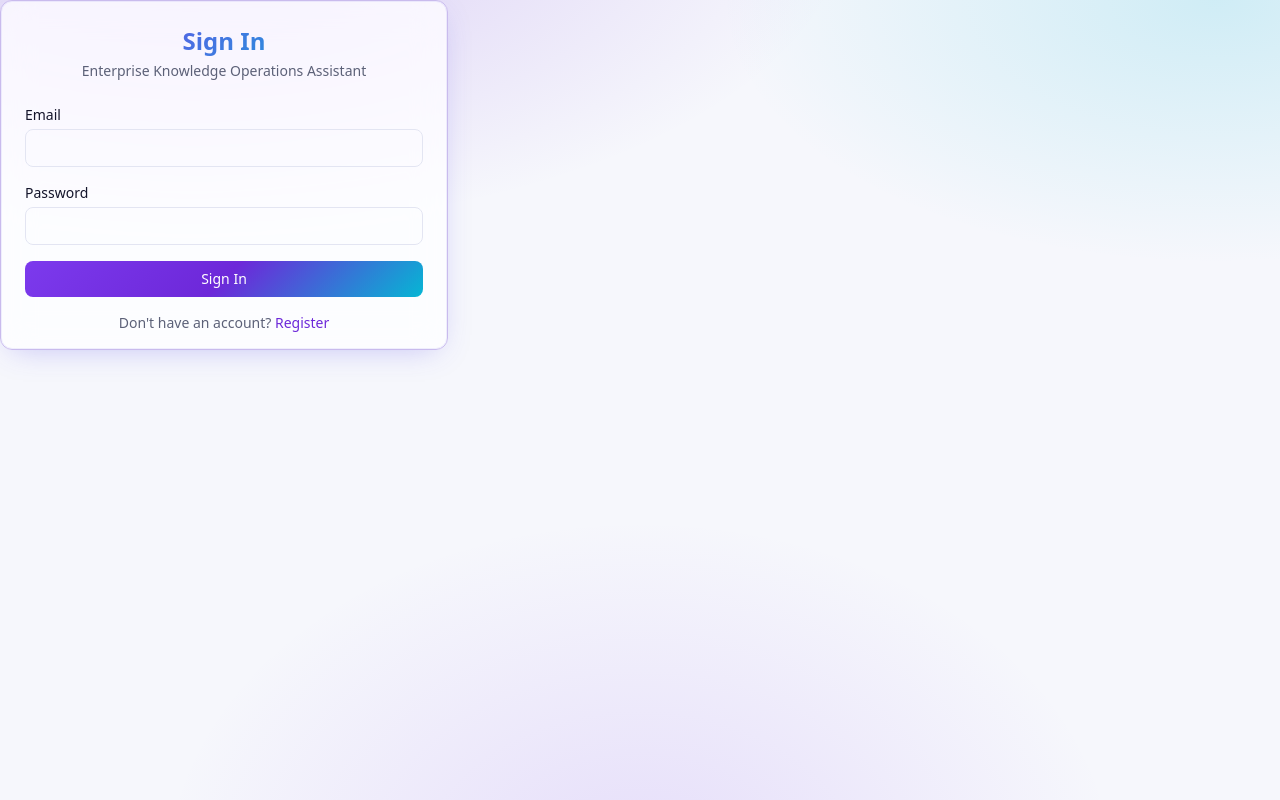
it: LoginForm › surfaces an API error in a role=alert banner
In the field labelled "Email": (224, 148) [25,129,423,167], type "admin@ekoa.dev"
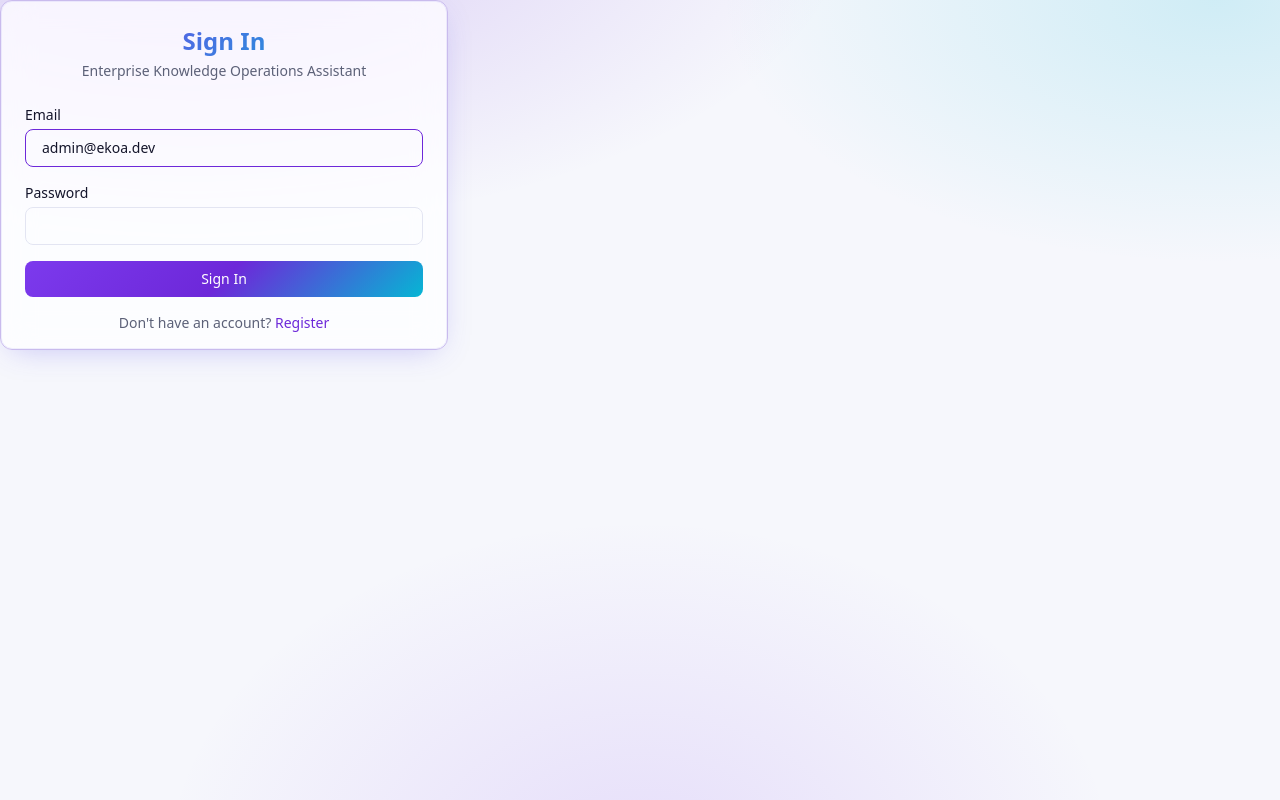
In the password field labelled "Password": (224, 226) [25,207,423,245], type "hunter2hunter"
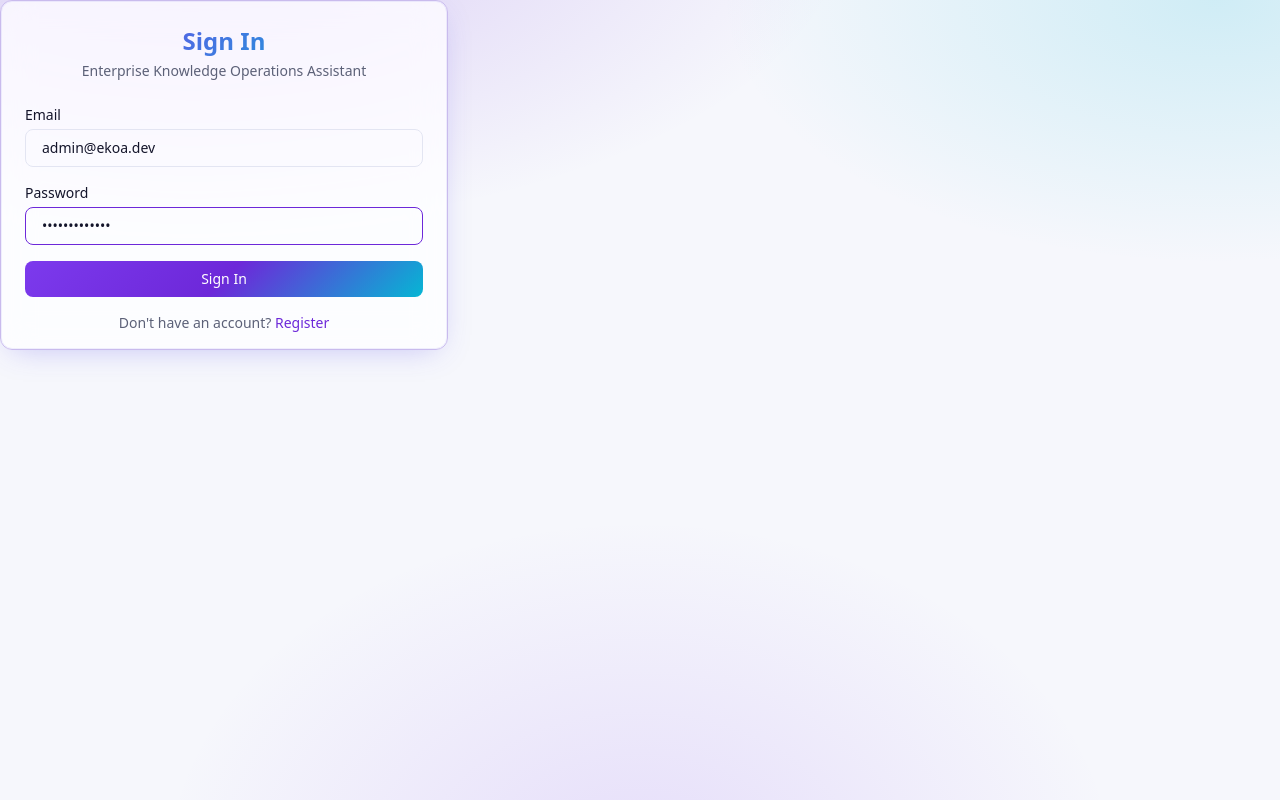
Click the button "Sign In": (224, 279) [25,261,423,297]
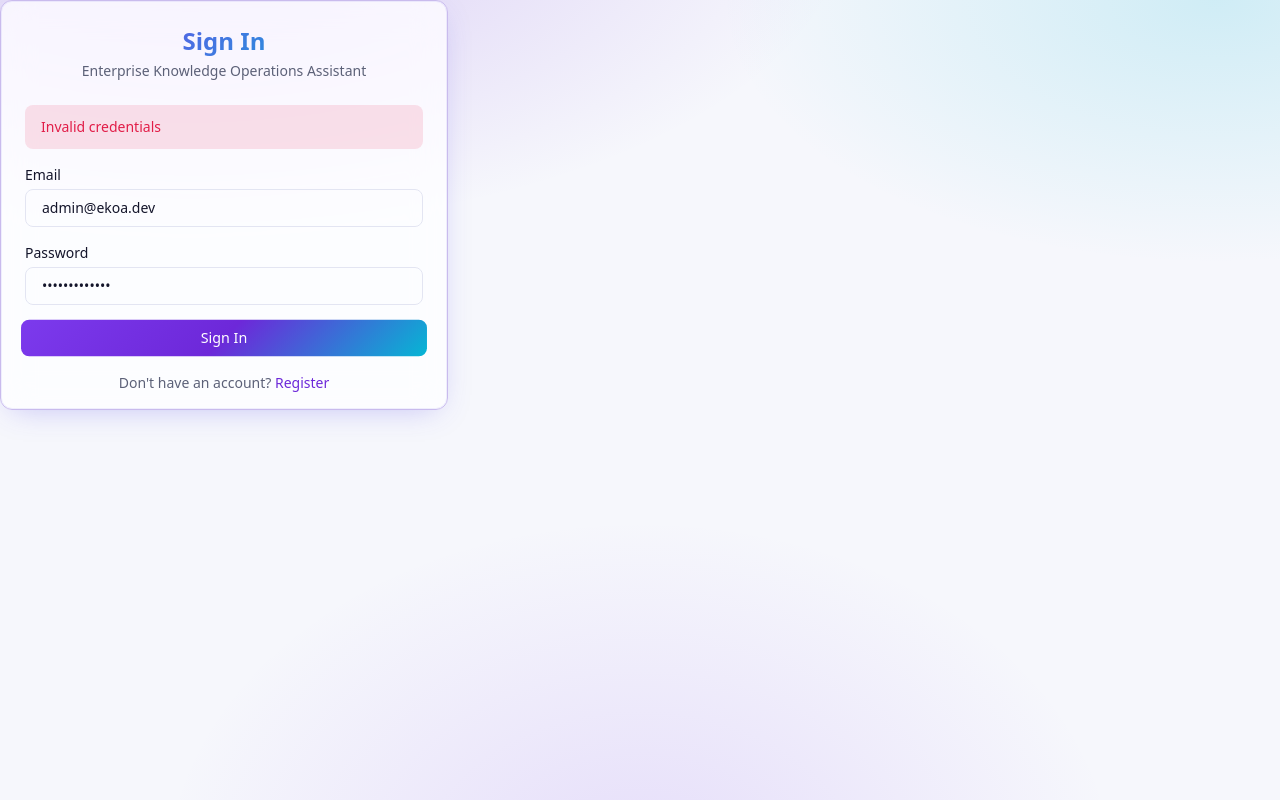
expect the message reads "Invalid credentials": met, box [41,117,161,136]
